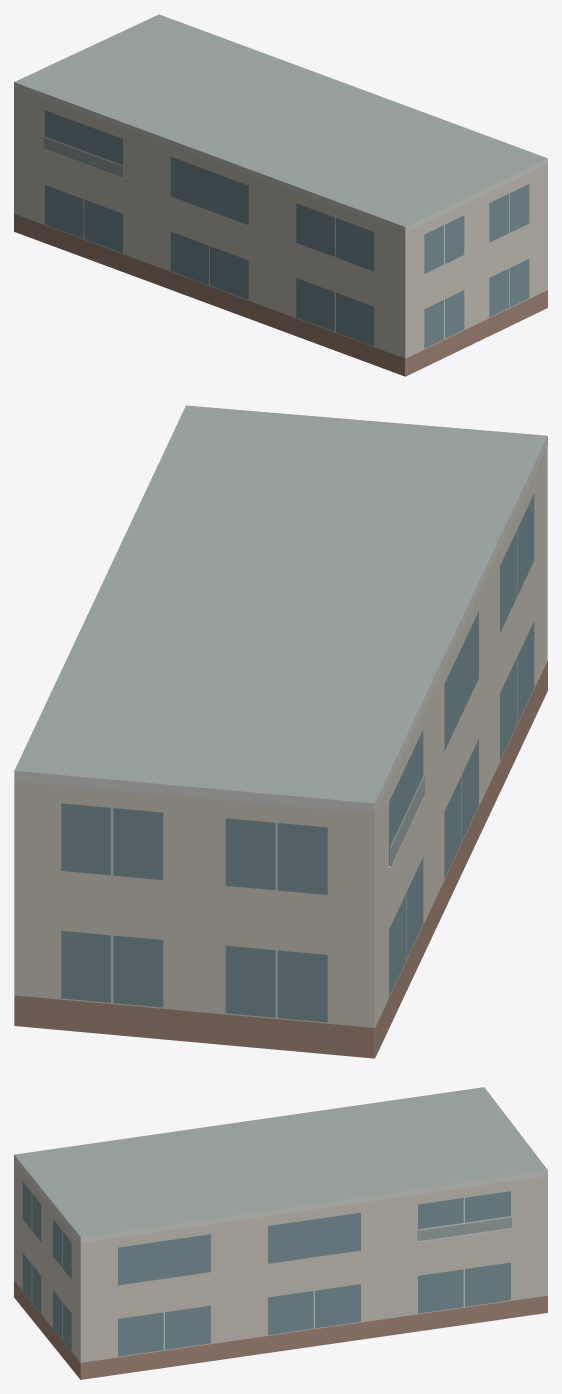
Rendered from survey-upis-32700039.glb.
The picture shows the model from 3 angles, top to bottom: view 1: azimuth 30°, elevation 25°; view 2: azimuth 150°, elevation 25°; view 3: azimuth 270°, elevation 25°; orthographic projection. The views are drawn at different scales.
Parts seen in each view (by area): view 1: survey-upis-32700039.tmp; view 2: survey-upis-32700039.tmp; view 3: survey-upis-32700039.tmp.
Boxes of the visible parts, bbox=[...] form: survey-upis-32700039.tmp: bbox=[14, 14, 547, 376]; survey-upis-32700039.tmp: bbox=[14, 405, 547, 1058]; survey-upis-32700039.tmp: bbox=[14, 1087, 547, 1379].
Bounding box in the file's own units: 13.77 × 6.1 × 20.68.
